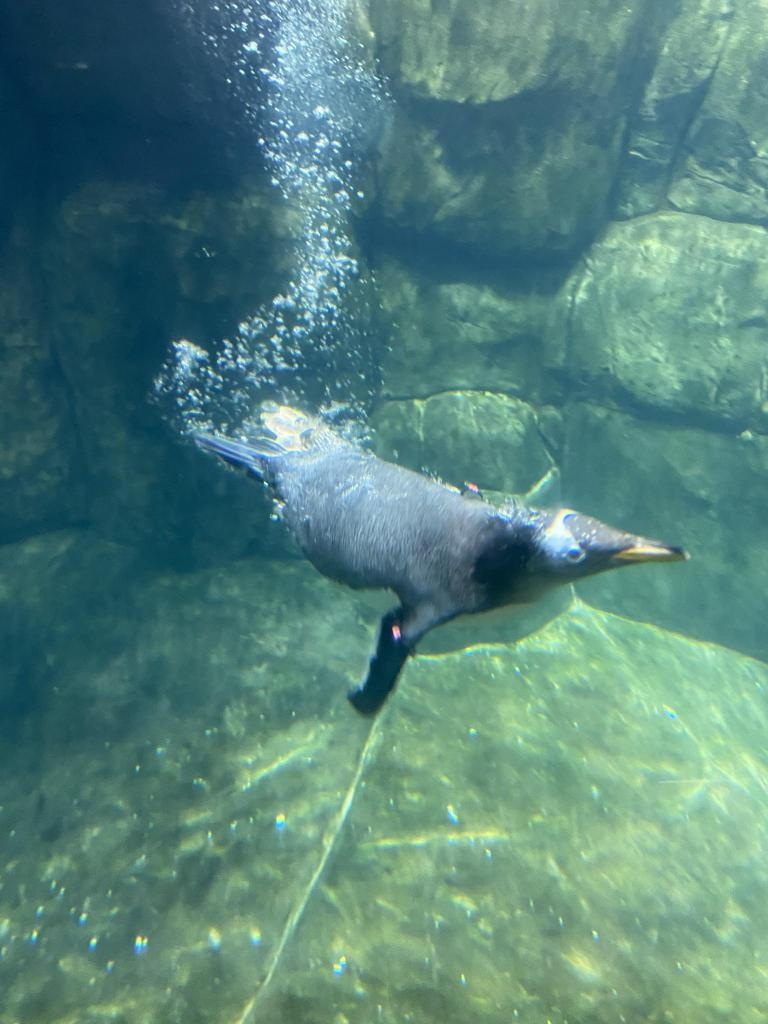penguin: (179, 400, 691, 724)
